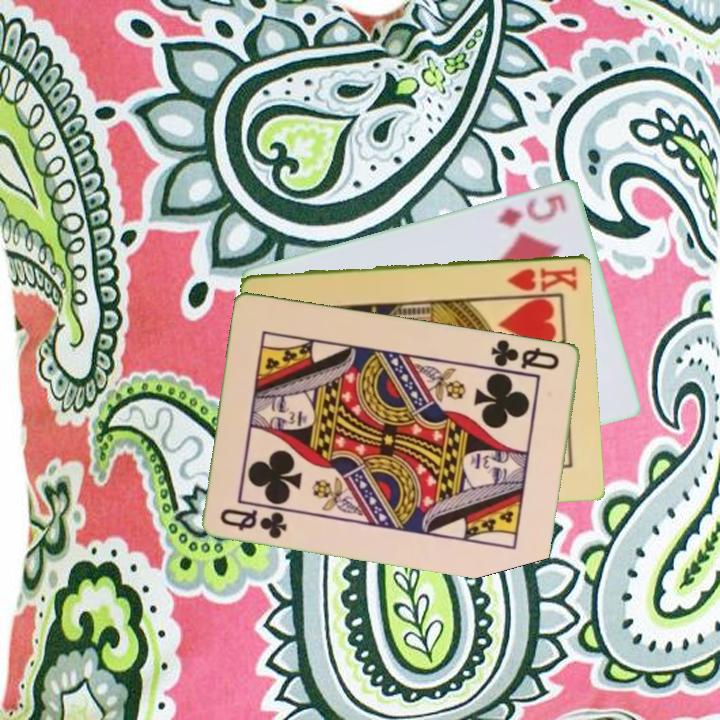5d: (495, 190, 570, 230)
Kh: (503, 262, 581, 294)
Qc: (488, 335, 563, 373), (216, 504, 291, 542)
